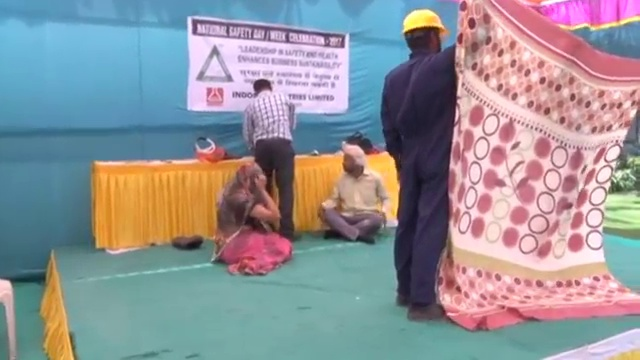helmet: (401, 8, 449, 38)
helmet_off: (236, 159, 264, 191), (340, 142, 364, 178), (251, 76, 274, 97)
helmet_on: (400, 8, 450, 56)
person: (379, 7, 453, 320), (242, 76, 299, 240), (212, 157, 290, 274), (316, 143, 388, 248)
